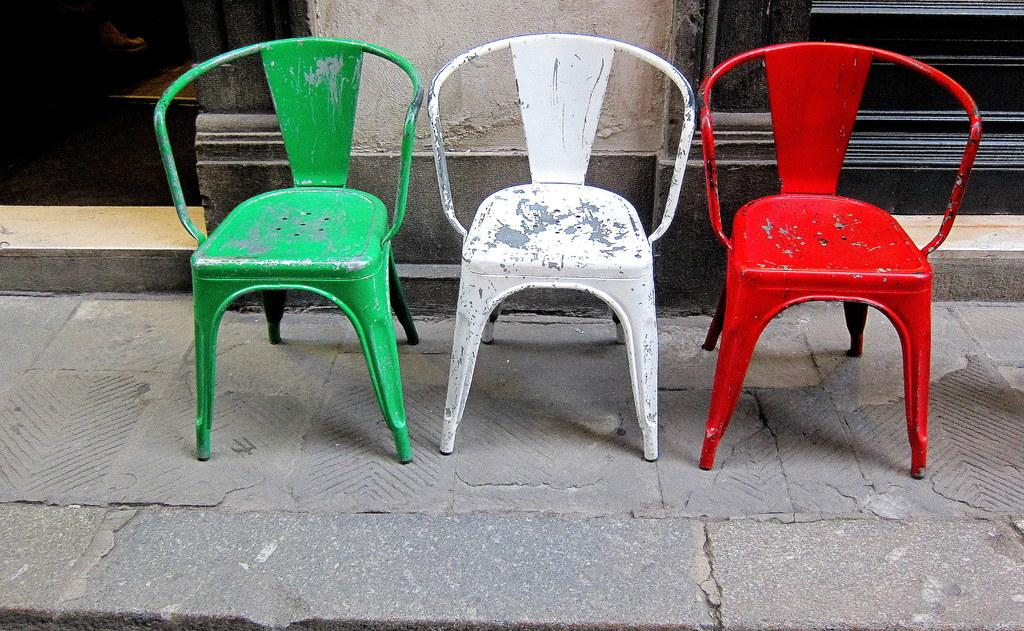Chair: (696, 47, 986, 474), (179, 19, 428, 484), (428, 31, 691, 463)
